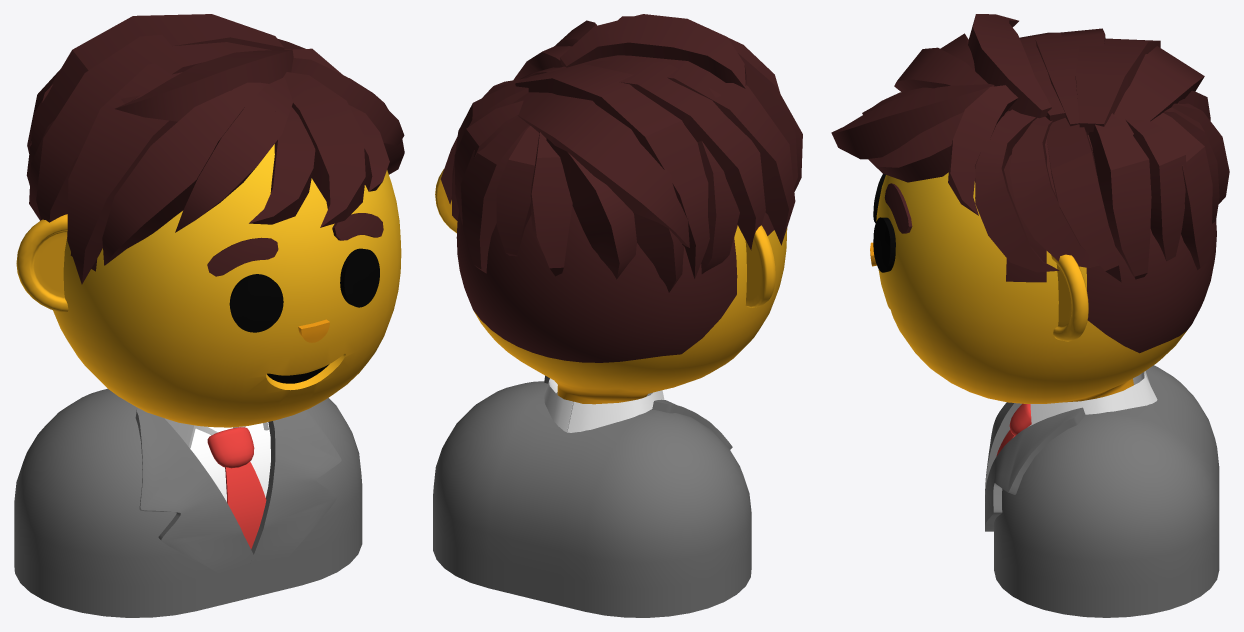
The model's file is office_worker.glb.
The picture shows the model from 3 angles, left to right: view 1: azimuth 30°, elevation 25°; view 2: azimuth 150°, elevation 25°; view 3: azimuth 270°, elevation 25°; orthographic projection. The views are drawn at different scales.
Visible parts, largest first — view 1: Cube.1340, Roundcube.108, Sphere.070, Circle.656, Circle.653, Cylinder.094, Circle.655, Circle.657, Cube.1348, Plane.053; view 2: Cube.1340, Sphere.070, Roundcube.108, Plane.053, Cylinder.094, Circle.656; view 3: Cube.1340, Roundcube.108, Sphere.070, Circle.656, Cylinder.094, Plane.053, Circle.653, Circle.655.
Boxes of the visible parts, box(x1,y1,x2,y2) form: Cube.1340: box(26, 14, 404, 284); Roundcube.108: box(53, 144, 401, 427); Sphere.070: box(14, 388, 362, 617); Circle.656: box(135, 408, 341, 581); Circle.653: box(229, 248, 379, 332); Cylinder.094: box(16, 214, 68, 312); Circle.655: box(207, 213, 383, 276); Circle.657: box(225, 461, 266, 549); Cube.1348: box(207, 427, 254, 468); Plane.053: box(165, 418, 268, 448); Cube.1340: box(440, 14, 802, 292); Sphere.070: box(433, 381, 751, 617); Roundcube.108: box(456, 206, 787, 404); Plane.053: box(544, 378, 664, 432); Cylinder.094: box(435, 169, 775, 307); Circle.656: box(544, 375, 732, 449); Cube.1340: box(831, 14, 1229, 282); Roundcube.108: box(876, 110, 1216, 403); Sphere.070: box(994, 365, 1219, 617); Circle.656: box(985, 402, 1085, 531); Cylinder.094: box(1051, 254, 1088, 341); Plane.053: box(1030, 371, 1157, 424); Circle.653: box(873, 174, 895, 272); Circle.655: box(884, 183, 912, 233).
Size of the model in its own units: 1.76 by 2.48 by 1.77.
2 materials, 2 textured.
